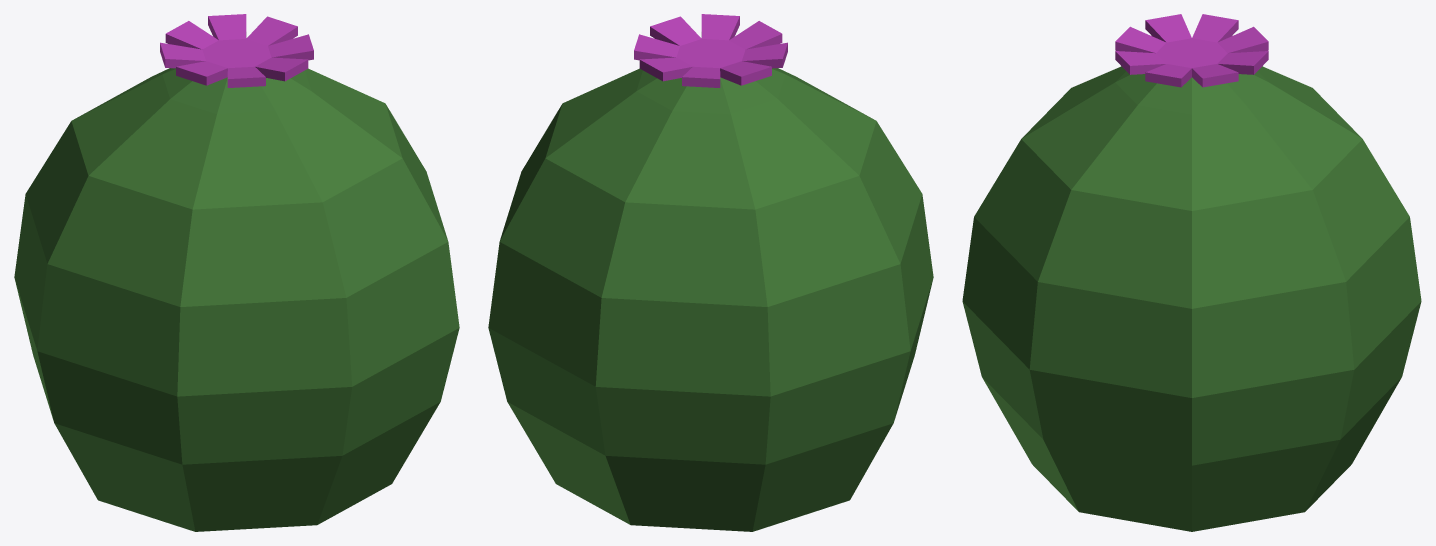
File: Cactus_2.fbx
The picture shows the model from 3 angles, left to right: view 1: azimuth 30°, elevation 25°; view 2: azimuth 150°, elevation 25°; view 3: azimuth 270°, elevation 25°; orthographic projection.
Parts seen in each view (by area): view 1: Castus_2; view 2: Castus_2; view 3: Castus_2.
Part boxes in pixels (box(x1,y1,x2,y2)): Castus_2: box(14, 14, 459, 531); Castus_2: box(488, 14, 933, 531); Castus_2: box(962, 14, 1421, 531).
Size of the model in its own units: 2.26 by 2.27 by 2.26.
